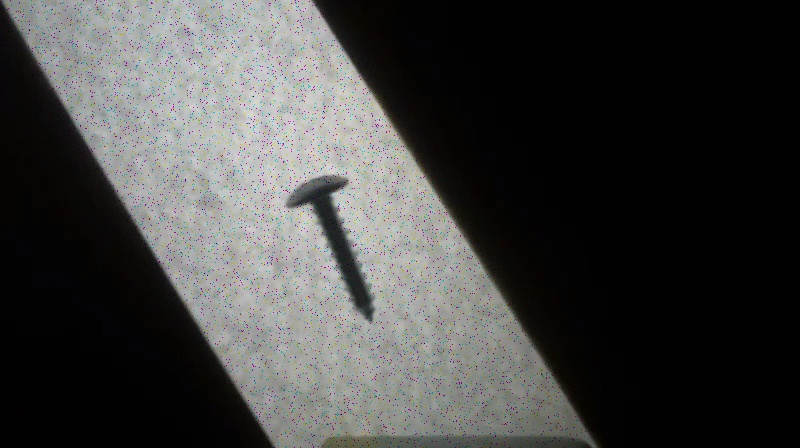S003: (282, 172, 377, 322)
